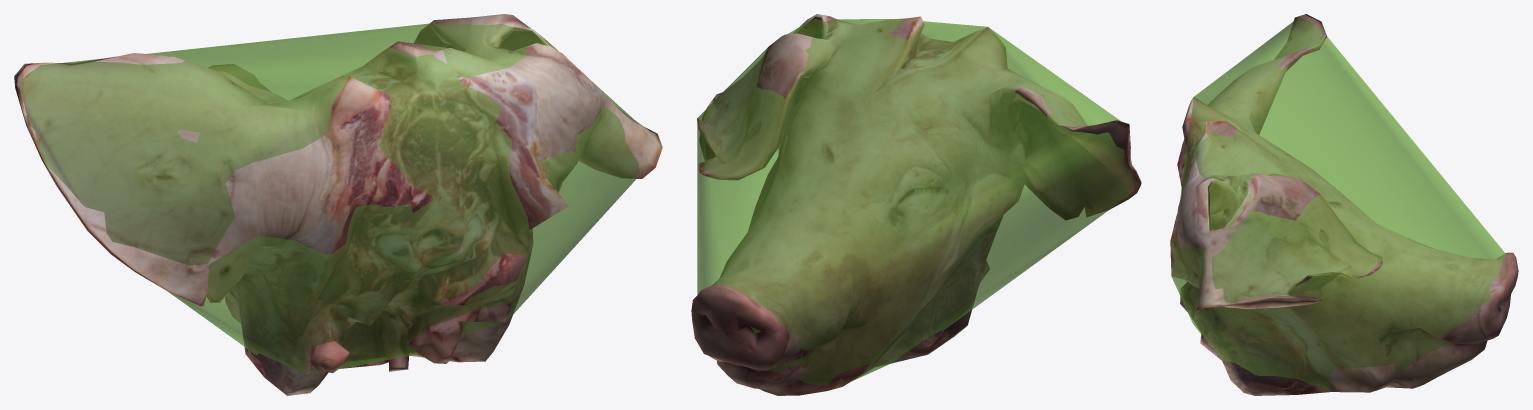
Rendered from pg_PigHead_01.fbx.
3 renders of one model, left to right at view 1: azimuth 30°, elevation 25°; view 2: azimuth 150°, elevation 25°; view 3: azimuth 270°, elevation 25°, orthographic. The views are drawn at different scales.
Visible parts, largest first — view 1: pg_pig_head_01_LOD0, pg_pig_head_01_col; view 2: pg_pig_head_01_col, pg_pig_head_01_LOD0; view 3: pg_pig_head_01_col, pg_pig_head_01_LOD0.
Boxes of the visible parts, bbox=[...] form: pg_pig_head_01_LOD0: bbox=[14, 14, 662, 395]; pg_pig_head_01_col: bbox=[20, 23, 639, 374]; pg_pig_head_01_col: bbox=[697, 19, 1133, 388]; pg_pig_head_01_LOD0: bbox=[691, 14, 1141, 395]; pg_pig_head_01_col: bbox=[1171, 17, 1506, 391]; pg_pig_head_01_LOD0: bbox=[1170, 14, 1518, 395].
Size of what is drawn, in the model's own units: 30.02 by 18.28 by 22.98.
